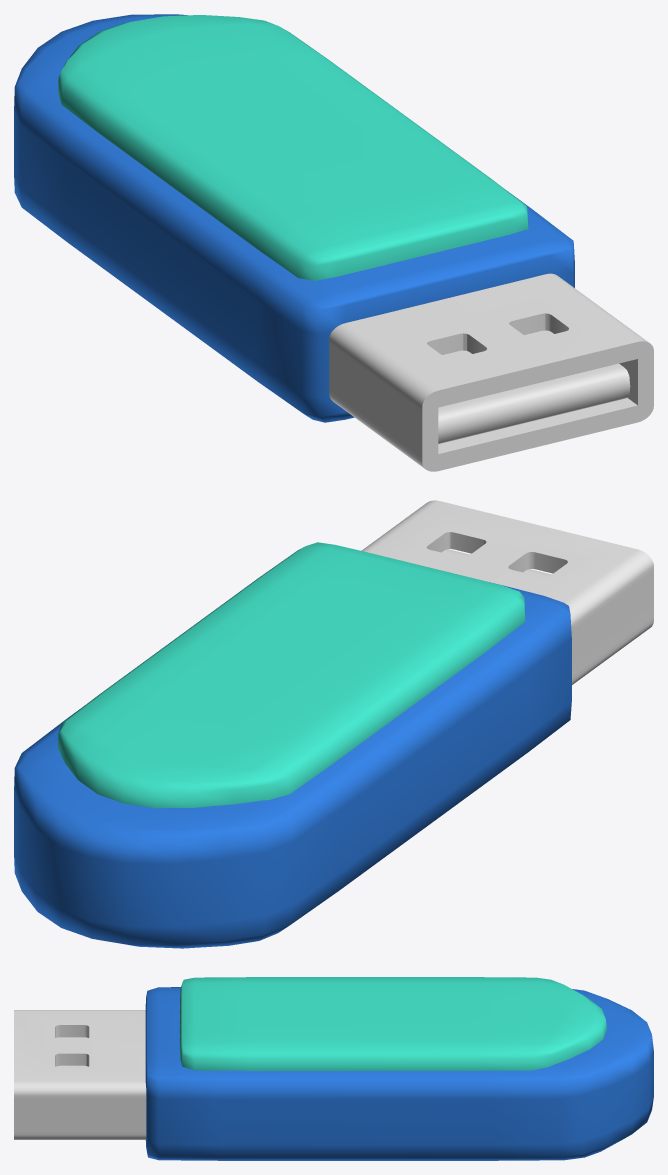
File: flasdisk.fbx
The picture shows the model from 3 angles, top to bottom: view 1: azimuth 30°, elevation 25°; view 2: azimuth 150°, elevation 25°; view 3: azimuth 270°, elevation 25°; orthographic projection. The views are drawn at different scales.
Visible parts, largest first — view 1: Cube.004, Cube.003, Cube.005, Cube.006; view 2: Cube.003, Cube.004, Cube.005; view 3: Cube.003, Cube.004, Cube.005.
Part boxes in pixels (x1=…): Cube.004: x1=58, y1=15, x2=528, y2=281; Cube.003: x1=14, y1=14, x2=574, y2=422; Cube.005: x1=329, y1=273, x2=653, y2=471; Cube.006: x1=438, y1=330, x2=630, y2=443; Cube.003: x1=14, y1=582, x2=571, y2=948; Cube.004: x1=57, y1=542, x2=525, y2=808; Cube.005: x1=361, y1=500, x2=653, y2=684; Cube.003: x1=145, y1=987, x2=653, y2=1160; Cube.004: x1=179, y1=977, x2=606, y2=1070; Cube.005: x1=14, y1=1010, x2=146, y2=1139.
Bounding box in the file's own units: 118 × 61.36 × 333.
